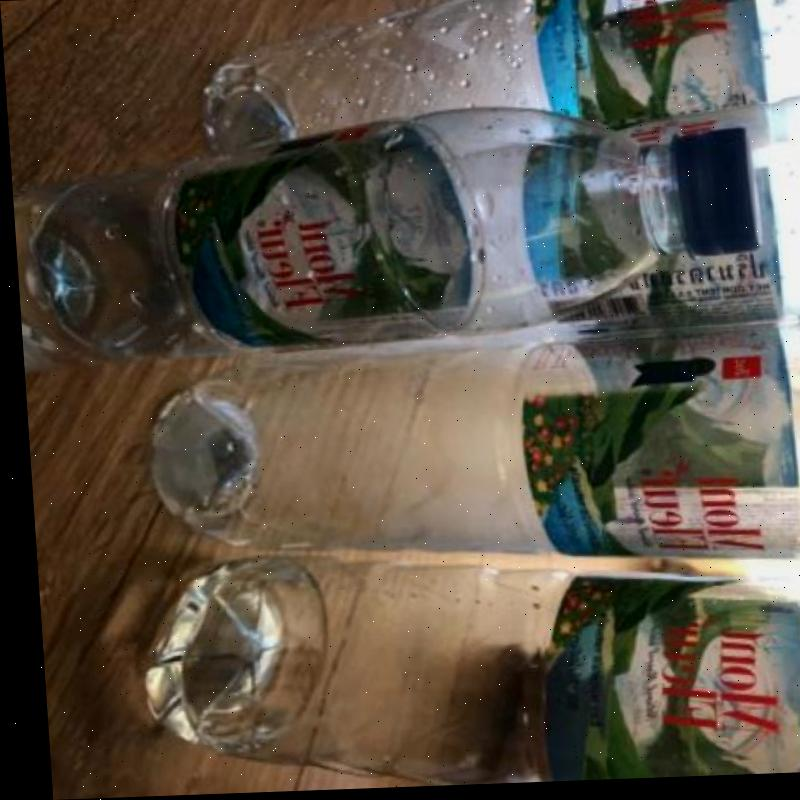botella: (7, 103, 759, 353), (132, 546, 800, 797), (138, 336, 800, 582), (195, 0, 800, 160), (543, 102, 800, 335)
